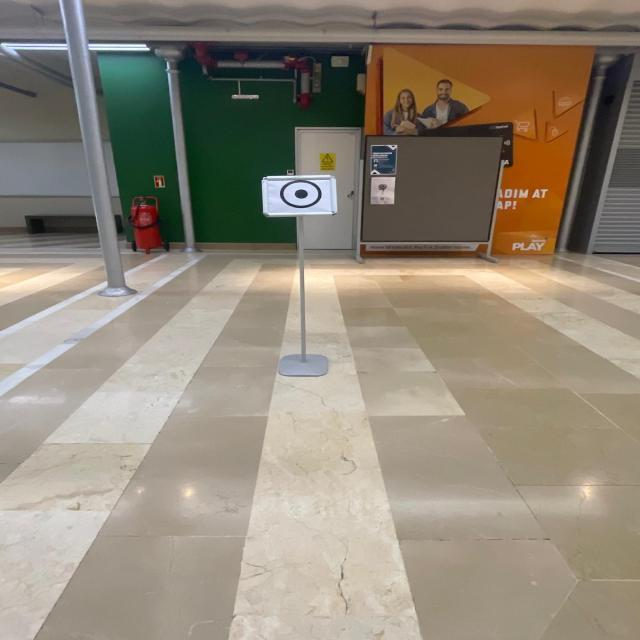Target: (249, 165, 356, 225)
inner: (289, 183, 313, 205)
